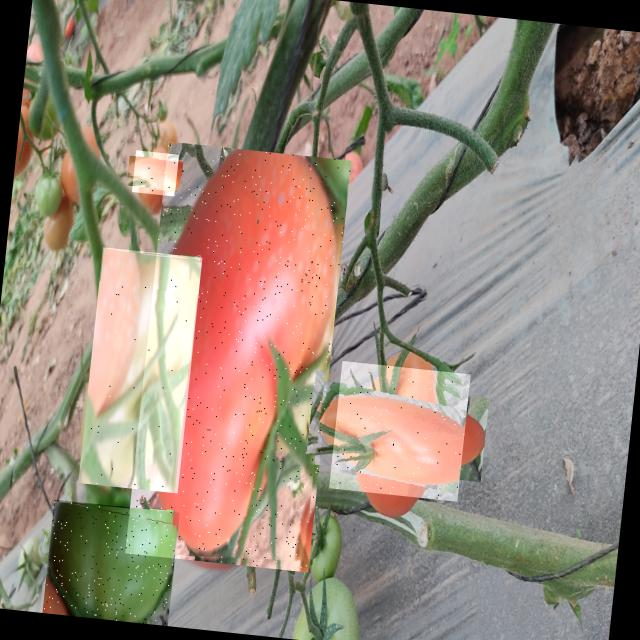Ripe Tomato: (124, 142, 350, 572), (328, 361, 471, 502), (132, 150, 178, 196)
Unripe Tomato: (78, 247, 202, 493), (42, 499, 179, 626)
